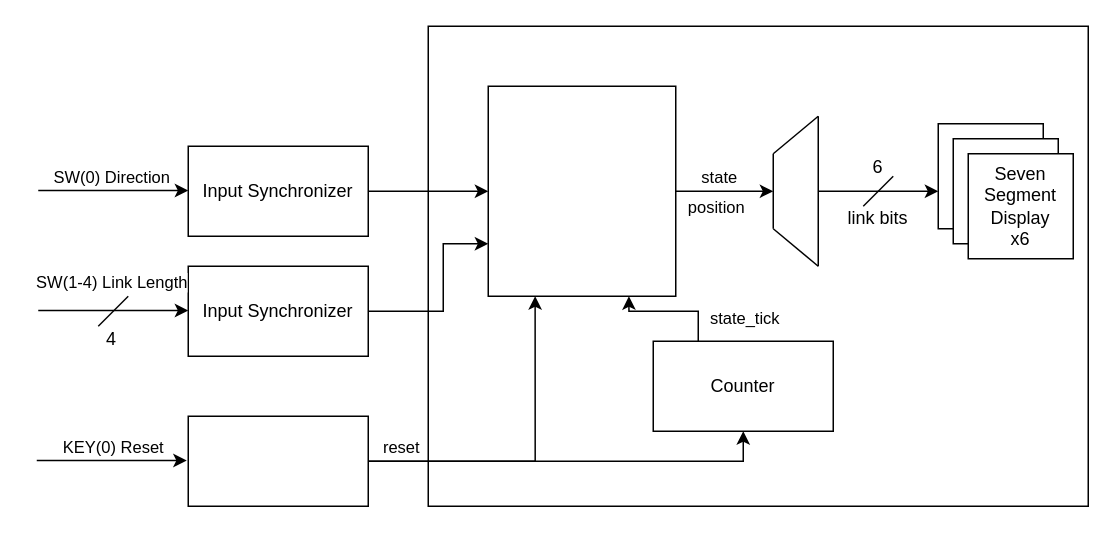
This 1115x533 diagram has some shape labels left out. The centre of each missing label's shape, as x and y in pixels:
"Reset Synchronizer" goes at point (277, 460).
"State Machine" goes at point (581, 190).
